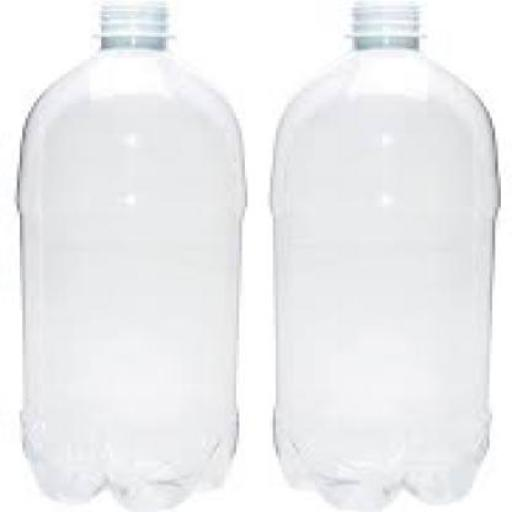plastic: (261, 0, 490, 511), (11, 0, 240, 511)
